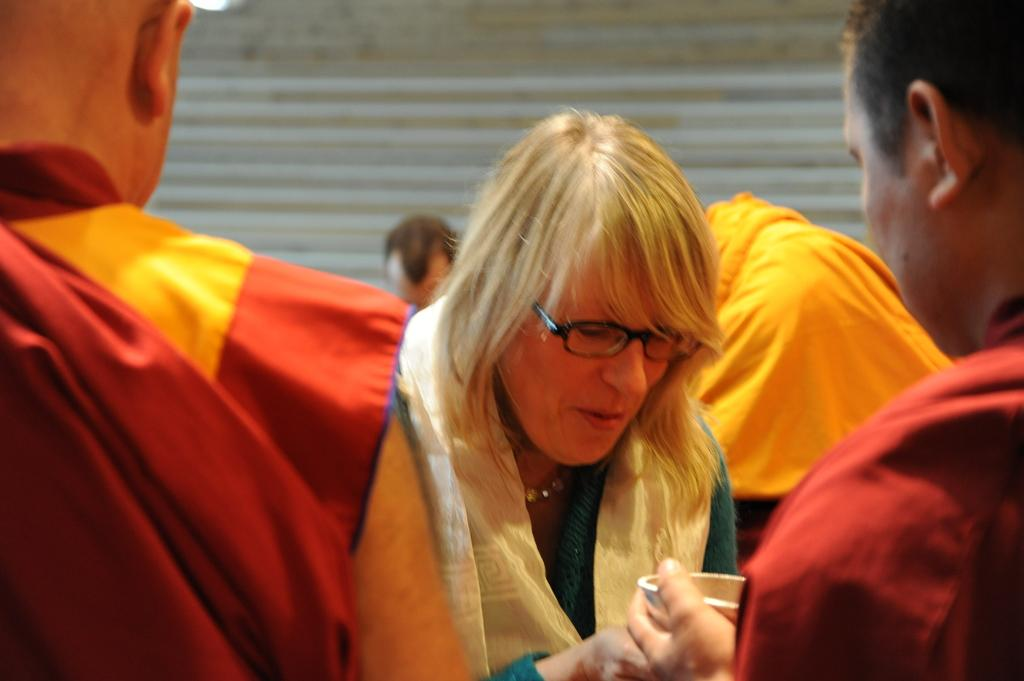Sem Máscara: (494, 218, 673, 465), (849, 75, 967, 352)
